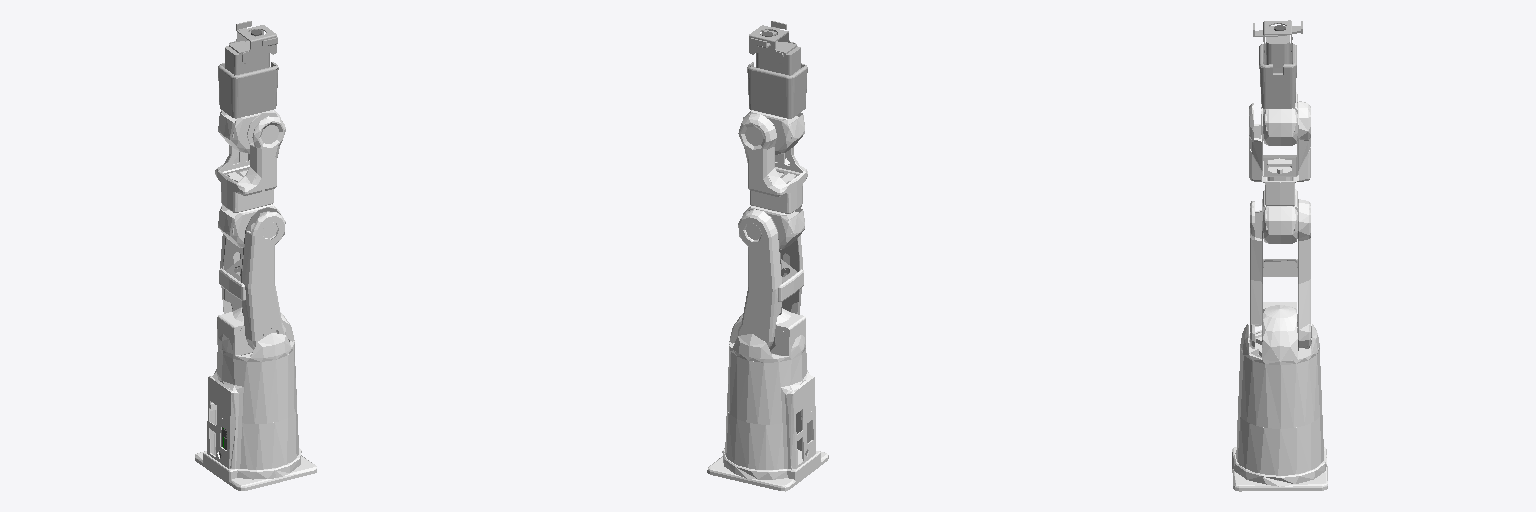
URDF robot description (ve026a):
<?xml version="1.0" encoding="UTF-8"?>
<robot name="ve026a">
	<gazebo>
		<plugin name="gazebo_ros_control" filename="libgazebo_ros_control.so">
			<robotNamespace>/ve026a</robotNamespace>
		</plugin>
	</gazebo>
	<!--link name="world"/>
	<joint name="joint_w" type="fixed">
		<parent link="world"/>
		<child link="base_link"/>
	</joint-->
	<link name="base_link">
		<visual>
			<origin rpy="0 0 0" xyz="0 0 0"/>
			<geometry>
				<mesh filename="package://ve026a_description/meshes/base_link.dae" scale="1 1 1"/>
			</geometry>
		</visual>
		<collision>
			<origin rpy="0 0 0" xyz="0 0 0"/>
			<geometry>
				<mesh filename="package://ve026a_description/meshes/base_link.dae" scale="1 1 1"/>
			</geometry>
		</collision>
		<inertial>
			<mass value="1"/>
			<origin rpy="0.000000 0.000000 0.000000" xyz="0.000000 0.000000 0.000000"/>
			<inertia ixx="1" ixy="0" ixz="0" iyy="1" iyz="0" izz="1"/>
		</inertial>
	</link>
	<link name="J1">
		<visual>
			<origin rpy="0 0 0" xyz="0 0 0"/>
			<geometry>
				<mesh filename="package://ve026a_description/meshes/J1.dae" scale="1 1 1"/>
			</geometry>
		</visual>
		<collision>
			<origin rpy="0 0 0" xyz="0 0 0"/>
			<geometry>
				<mesh filename="package://ve026a_description/meshes/J1.dae" scale="1 1 1"/>
			</geometry>
		</collision>
		<inertial>
			<mass value="1"/>
			<origin rpy="0.000000 0.000000 0.000000" xyz="0.000000 0.000000 0.000000"/>
			<inertia ixx="1" ixy="0" ixz="0" iyy="1" iyz="0" izz="1"/>
		</inertial>
	</link>
	<joint name="joint_1" type="revolute">
		<parent link="base_link"/>
		<child link="J1"/>
		<origin rpy="0.000000 0.000000 0.000000" xyz="0.000000 0.000000 0.000000"/>
		<axis xyz="-0.000000 -0.000000 1.000000"/>
		<limit effort="1" lower="-1.396263" upper="1.832596" velocity="1"/>
		<dynamics damping="0" friction="0"/>
	</joint>
	<transmission name="trans_1">
		<type>transmission_interface/SimpleTransmission</type>
		<joint name="joint_1">
			<hardwareInterface>PositionJointInterface</hardwareInterface>
		</joint>
		<actuator name="motor_1">
			<hardwareInterface>PositionJointInterface</hardwareInterface>
			<mechanicalReduction>1</mechanicalReduction>
		</actuator>
	</transmission>
	<link name="J2">
		<visual>
			<origin rpy="0 0 0" xyz="0 0 0"/>
			<geometry>
				<mesh filename="package://ve026a_description/meshes/J2.dae" scale="1 1 1"/>
			</geometry>
		</visual>
		<collision>
			<origin rpy="0 0 0" xyz="0 0 0"/>
			<geometry>
				<mesh filename="package://ve026a_description/meshes/J2.dae" scale="1 1 1"/>
			</geometry>
		</collision>
		<inertial>
			<mass value="1"/>
			<origin rpy="0.000000 0.000000 0.000000" xyz="0.000000 0.000000 0.000000"/>
			<inertia ixx="1" ixy="0" ixz="0" iyy="1" iyz="0" izz="1"/>
		</inertial>
	</link>
	<joint name="joint_2" type="revolute">
		<parent link="J1"/>
		<child link="J2"/>
		<origin rpy="0.000000 0.000000 0.000000" xyz="0.000000 0.000000 0.130000"/>
		<axis xyz="-0.000000 1.000000 -0.000000"/>
		<limit effort="1" lower="-0.6108652" upper="1.570796" velocity="1"/>
		<dynamics damping="0" friction="0"/>
	</joint>
	<transmission name="trans_2">
		<type>transmission_interface/SimpleTransmission</type>
		<joint name="joint_2">
			<hardwareInterface>PositionJointInterface</hardwareInterface>
		</joint>
		<actuator name="motor_2">
			<hardwareInterface>PositionJointInterface</hardwareInterface>
			<mechanicalReduction>1</mechanicalReduction>
		</actuator>
	</transmission>
	<link name="J3">
		<visual>
			<origin rpy="0 0 0" xyz="0 0 0"/>
			<geometry>
				<mesh filename="package://ve026a_description/meshes/J3.dae" scale="1 1 1"/>
			</geometry>
		</visual>
		<collision>
			<origin rpy="0 0 0" xyz="0 0 0"/>
			<geometry>
				<mesh filename="package://ve026a_description/meshes/J3.dae" scale="1 1 1"/>
			</geometry>
		</collision>
		<inertial>
			<mass value="1"/>
			<origin rpy="0.000000 0.000000 0.000000" xyz="0.000000 0.000000 0.000000"/>
			<inertia ixx="1" ixy="0" ixz="0" iyy="1" iyz="0" izz="1"/>
		</inertial>
	</link>
	<joint name="joint_3" type="revolute">
		<parent link="J2"/>
		<child link="J3"/>
		<origin rpy="0.000000 0.000000 0.000000" xyz="0.000000 0.000000 0.100000"/>
                <axis xyz="-0.000000 1.000000 -0.000000"/>
		<limit effort="1" lower="-1.308997" upper="2.356194" velocity="1"/>
		<dynamics damping="0" friction="0"/>
	</joint>
	<transmission name="trans_3">
		<type>transmission_interface/SimpleTransmission</type>
		<joint name="joint_3">
			<hardwareInterface>PositionJointInterface</hardwareInterface>
		</joint>
		<actuator name="motor_3">
			<hardwareInterface>PositionJointInterface</hardwareInterface>
			<mechanicalReduction>1</mechanicalReduction>
		</actuator>
	</transmission>
	<link name="J4">
		<visual>
			<origin rpy="0 0 0" xyz="0 0 0"/>
			<geometry>
				<mesh filename="package://ve026a_description/meshes/J4.dae" scale="1 1 1"/>
			</geometry>
		</visual>
		<collision>
			<origin rpy="0 0 0" xyz="0 0 0"/>
			<geometry>
				<mesh filename="package://ve026a_description/meshes/J4.dae" scale="1 1 1"/>
			</geometry>
		</collision>
		<inertial>
			<mass value="1"/>
			<origin rpy="0.000000 0.000000 0.000000" xyz="0.000000 0.000000 0.000000"/>
			<inertia ixx="1" ixy="0" ixz="0" iyy="1" iyz="0" izz="1"/>
		</inertial>
	</link>
	<joint name="joint_4" type="revolute">
		<parent link="J3"/>
		<child link="J4"/>
		<origin rpy="0.000000 0.000000 0.000000" xyz="0.000000 0.000000 -0.230000"/>
		<axis xyz="-0.000000 -0.000000 1.000000"/>
		<limit effort="1" lower="-2.443461" upper="2.443461" velocity="1"/>
		<dynamics damping="0" friction="0"/>
	</joint>
	<transmission name="trans_4">
		<type>transmission_interface/SimpleTransmission</type>
		<joint name="joint_4">
			<hardwareInterface>PositionJointInterface</hardwareInterface>
		</joint>
		<actuator name="motor_4">
			<hardwareInterface>PositionJointInterface</hardwareInterface>
			<mechanicalReduction>1</mechanicalReduction>
		</actuator>
	</transmission>
	<link name="J5">
		<visual>
			<origin rpy="0 0 0" xyz="0 0 0"/>
			<geometry>
				<mesh filename="package://ve026a_description/meshes/J5.dae" scale="1 1 1"/>
			</geometry>
		</visual>
		<collision>
			<origin rpy="0 0 0" xyz="0 0 0"/>
			<geometry>
				<mesh filename="package://ve026a_description/meshes/J5.dae" scale="1 1 1"/>
			</geometry>
		</collision>
		<inertial>
			<mass value="1"/>
			<origin rpy="0.000000 0.000000 0.000000" xyz="0.000000 0.000000 0.000000"/>
			<inertia ixx="1" ixy="0" ixz="0" iyy="1" iyz="0" izz="1"/>
		</inertial>
	</link>
	<joint name="joint_5" type="revolute">
		<parent link="J4"/>
		<child link="J5"/>
		<origin rpy="0.000000 0.000000 0.000000" xyz="0.000000 0.000000 0.320000"/>
		<axis xyz="-0.000000 1.000000 -0.000000"/>
		<limit effort="1" lower="-1.570796" upper="1.832596" velocity="1"/>
		<dynamics damping="0" friction="0"/>
	</joint>
	<transmission name="trans_5">
		<type>transmission_interface/SimpleTransmission</type>
		<joint name="joint_5">
			<hardwareInterface>PositionJointInterface</hardwareInterface>
		</joint>
		<actuator name="motor_5">
			<hardwareInterface>PositionJointInterface</hardwareInterface>
			<mechanicalReduction>1</mechanicalReduction>
		</actuator>
	</transmission>
	<link name="J6">
		<visual>
			<origin rpy="0 0 0" xyz="-0.000283 -0.001865 -0.338" />
                        <geometry>
                          <!--J6.dae could not load properly, so use l6.stl-->
                          <mesh filename="package://ve026a_description/meshes/l6.stl" scale="1 1 1"/>
                        </geometry>
                        <material name="J6">
                          <color rgba="0.8 0.8 0.8 1"/>
                        </material>
		</visual>
		<collision>
			<origin rpy="0 0 0" xyz="-0.000283 -0.001865 -0.338"/>
			<geometry>
                          <mesh filename="package://ve026a_description/meshes/l6.stl" scale="1 1 1"/>
			</geometry>
		</collision>
		<inertial>
			<mass value="1"/>
			<origin rpy="0.000000 0.000000 0.000000" xyz="0.000000 0.000000 0.000000"/>
			<inertia ixx="1" ixy="0" ixz="0" iyy="1" iyz="0" izz="1"/>
		</inertial>
	</link>
	<joint name="joint_6" type="revolute">
		<parent link="J5"/>
		<child link="J6"/>
		<!--origin rpy="0.000000 0.000000 0.000000" xyz="0.000000 0.000000 -0.320000"/--> <!-- wincaps3's bag? -->
		<origin rpy="0.000000 0.000000 0.000000" xyz="0.000000 0.000000 0.018"/> <!-- End effector tip position -->
		<!--axis xyz="0.000000 0.000000 0.000000"/-->
		<axis xyz="0.000000 0.000000 1.000000"/>
		<limit effort="1" lower="-2.443461" upper="2.443461" velocity="1"/>
		<dynamics damping="0" friction="0"/>
	</joint>
	<transmission name="trans_6">
		<type>transmission_interface/SimpleTransmission</type>
		<joint name="joint_6">
			<hardwareInterface>PositionJointInterface</hardwareInterface>
		</joint>
		<actuator name="motor_6">
			<hardwareInterface>PositionJointInterface</hardwareInterface>
			<mechanicalReduction>1</mechanicalReduction>
		</actuator>
        </transmission>
        
        <link name="J7">
		<visual>
			<origin rpy="0 0 0" xyz="0 0 0" />
			<geometry>
                          <cylinder length="0.001" radius="0.005"/>
                        </geometry>
                        <material name="J7">
                          <color rgba="0.5 0.5 0.5 1"/>
                        </material>
		</visual>
		<collision>
			<origin rpy="0 0 0" xyz="0 0 0"/>
			<geometry>
                          <cylinder length="0.001" radius="0.005"/>
			</geometry>
		</collision>
		<inertial>
			<mass value="0.1"/>
			<origin rpy="0.000000 0.000000 0.000000" xyz="0.000000 0.000000 0.000000"/>
			<inertia ixx="1" ixy="0" ixz="0" iyy="1" iyz="0" izz="1"/>
		</inertial>
	</link>
	<joint name="joint_7" type="revolute">
		<parent link="J6"/>
		<child link="J7"/>
		<!--origin rpy="0.000000 0.000000 0.000000" xyz="0.000000 0.000000 -0.320000"/--> <!-- wincaps3's bag? -->
		<origin rpy="0.000000 0.000000 0.000000" xyz="0.000000 0.000000 0.068"/> <!-- End effector tip position -->
		<!--axis xyz="0.000000 0.000000 0.000000"/-->
		<axis xyz="0.000000 0.000000 1.000000"/>
		<limit effort="1" lower="-0.63633" upper="0.43633" velocity="3"/>
		<dynamics damping="0" friction="0"/>
	</joint>
	<transmission name="trans_7">
		<type>transmission_interface/SimpleTransmission</type>
		<joint name="joint_7">
			<hardwareInterface>PositionJointInterface</hardwareInterface>
		</joint>
		<actuator name="motor_7">
			<hardwareInterface>PositionJointInterface</hardwareInterface>
			<mechanicalReduction>1</mechanicalReduction>
		</actuator>
        </transmission>

</robot>

--- Facts derived from the render (not from the file) ---
3 views of the same robot in one strip: view 1: azimuth 30°, elevation 25°; view 2: azimuth 150°, elevation 25°; view 3: azimuth 270°, elevation 25° (orthographic).
Model ve026a with 8 links and 7 joints (7 revolute), rooted at base_link, posed every joint at zero.
Visible links, largest first — view 1: base_link, J2, J6, J4, J1, J3, J5; view 2: base_link, J2, J6, J4, J1, J5, J3; view 3: base_link, J2, J4, J6, J1, J3, J5.
Link boxes in pixels (bbox=[...]): base_link: bbox=[195, 339, 316, 490]; J2: bbox=[219, 207, 285, 349]; J6: bbox=[218, 21, 278, 118]; J4: bbox=[215, 112, 285, 212]; J1: bbox=[217, 307, 294, 361]; J3: bbox=[218, 204, 280, 247]; J5: bbox=[218, 110, 280, 153]; base_link: bbox=[707, 343, 828, 491]; J2: bbox=[738, 209, 803, 350]; J6: bbox=[747, 21, 807, 118]; J4: bbox=[738, 114, 807, 213]; J1: bbox=[729, 308, 805, 362]; J5: bbox=[743, 110, 804, 154]; J3: bbox=[743, 206, 804, 249]; base_link: bbox=[1232, 333, 1327, 491]; J2: bbox=[1250, 199, 1310, 350]; J4: bbox=[1249, 101, 1310, 205]; J6: bbox=[1253, 20, 1302, 108]; J1: bbox=[1240, 302, 1319, 364]; J3: bbox=[1263, 189, 1297, 243]; J5: bbox=[1263, 92, 1297, 145].
Size in the robot's own frame: 0.0803 by 0.0803 by 0.4085 metres.
Meshes: 7 distinct files referenced, 7 mesh visuals loaded (1 binary STL, 6 Collada DAE).
